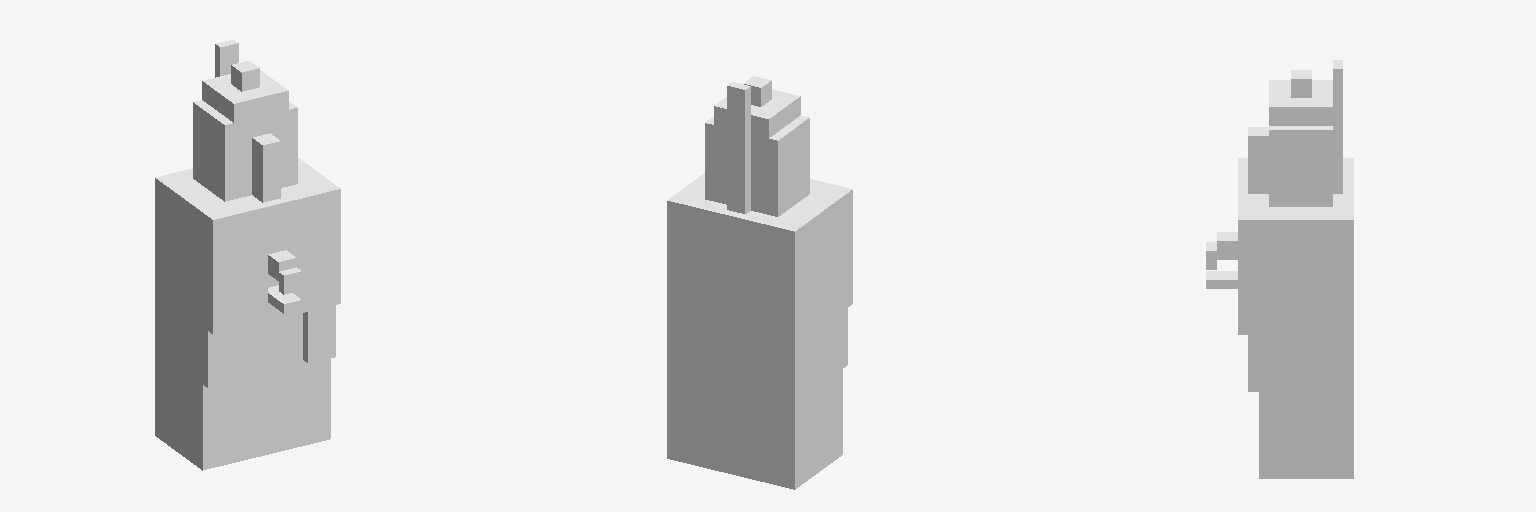
The model's file is Gor-4.obj.
3 views of the same model, side by side, from view 1: azimuth 30°, elevation 25°; view 2: azimuth 150°, elevation 25°; view 3: azimuth 270°, elevation 25° (orthographic).
Parts seen in each view (by area): view 1: object 1; view 2: object 1; view 3: object 1.
Boxes of the visible parts, box(x1,y1,x2,y2) form: object 1: box(155, 39, 340, 470); object 1: box(667, 76, 852, 489); object 1: box(1206, 60, 1353, 478).
Bounding box in the file's own units: 1.4 × 4 × 1.4.